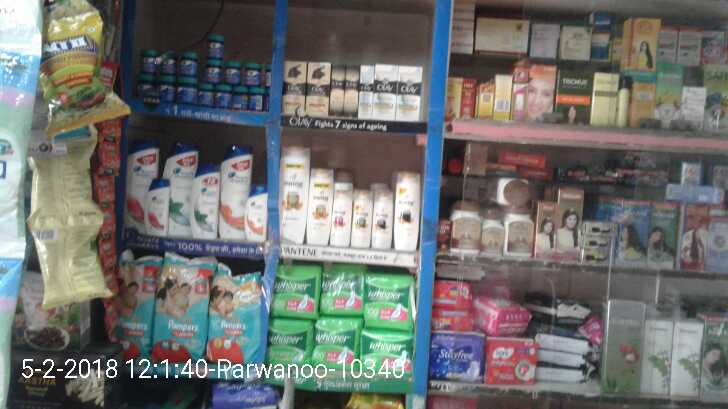vicks: (141, 31, 272, 111)
